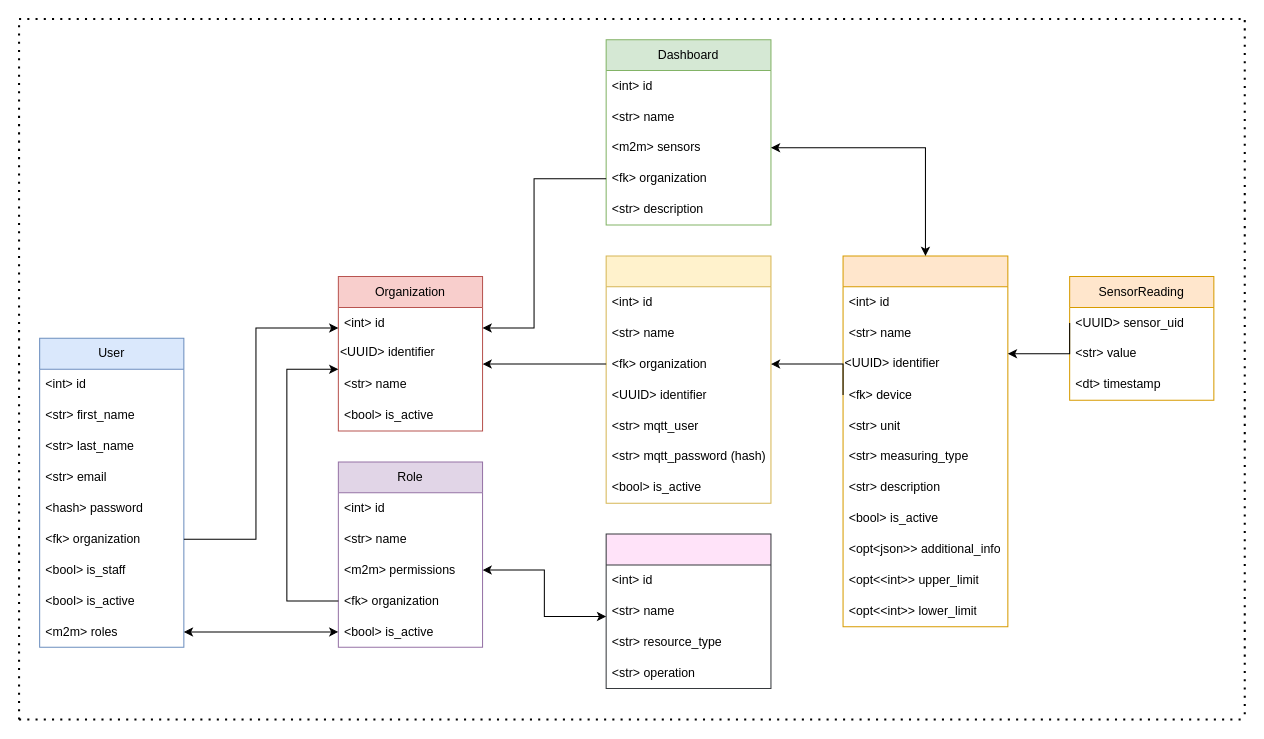
This 1264x739 diagram has some shape labels left out. Here are the shapes that lost their labels. From the top down, the box of each, then its label:
(605, 255, 771, 503): Device
(842, 255, 1008, 627): Sensor
(605, 533, 771, 689): Permission
